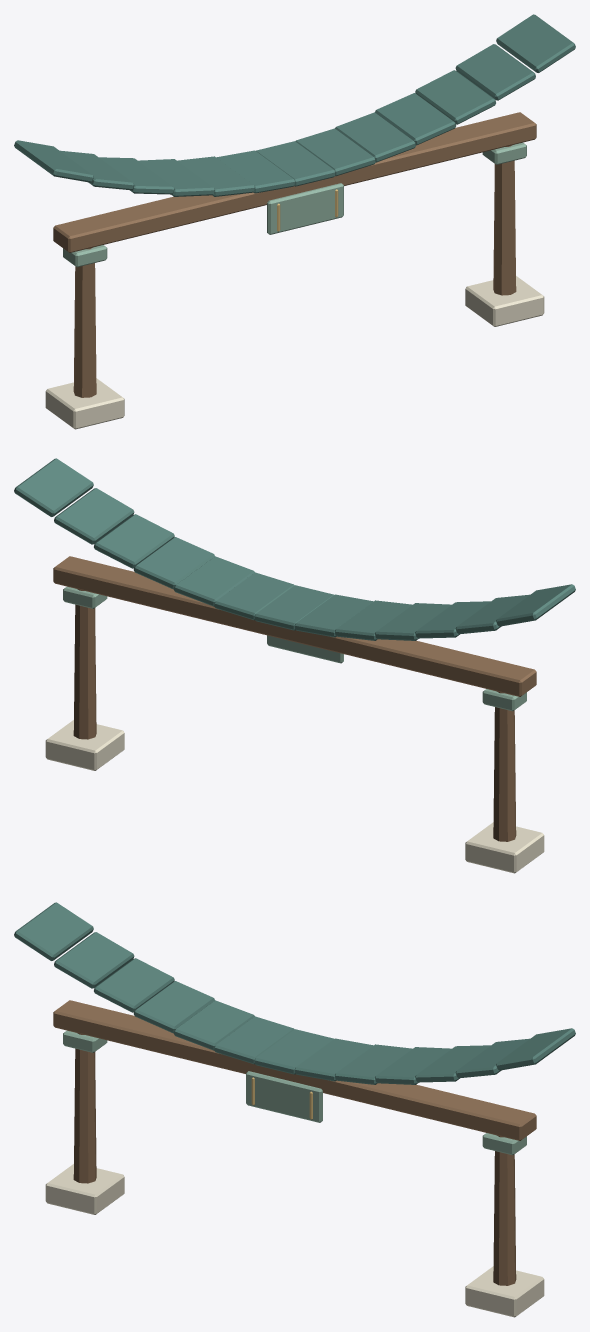
Rendered from hd2d-gate.glb.
3 views of the same model, one above another, from view 1: azimuth 30°, elevation 25°; view 2: azimuth 150°, elevation 25°; view 3: azimuth 330°, elevation 25° (orthographic).
Visible parts, largest first — view 1: GateLintel, CarvedTimber.001, CarvedTimber, CurvedJadeTiles.012, StonePlinth, StonePlinth.001, BronzeTablet, CurvedJadeTiles.011, CurvedJadeTiles.010, CurvedJadeTiles.009, CurvedJadeTiles.008, CurvedJadeTiles.007 (+9 smaller); view 2: GateLintel, CarvedTimber.001, CarvedTimber, CurvedJadeTiles.012, StonePlinth, StonePlinth.001, CurvedJadeTiles.011, CurvedJadeTiles.010, CurvedJadeTiles.009, CurvedJadeTiles.008, CurvedJadeTiles.007, CurvedJadeTiles.006 (+9 smaller); view 3: GateLintel, CarvedTimber, CarvedTimber.001, CurvedJadeTiles, StonePlinth.001, StonePlinth, BronzeTablet, CurvedJadeTiles.001, CurvedJadeTiles.002, CurvedJadeTiles.003, CurvedJadeTiles.004, CurvedJadeTiles.005 (+9 smaller).
Part boxes in pixels (x1,y1,x2,y2): GateLintel: (53, 112, 536, 252); CarvedTimber.001: (493, 145, 516, 295); CarvedTimber: (73, 247, 96, 397); CurvedJadeTiles.012: (496, 14, 575, 72); StonePlinth: (45, 378, 124, 429); StonePlinth.001: (465, 276, 544, 326); BronzeTablet: (267, 183, 343, 234); CurvedJadeTiles.011: (455, 44, 535, 100); CurvedJadeTiles.010: (415, 70, 495, 124); CurvedJadeTiles.009: (375, 93, 456, 145); CurvedJadeTiles.008: (335, 112, 415, 162); CurvedJadeTiles.007: (295, 128, 375, 176); GateLintel: (53, 556, 536, 696); CarvedTimber.001: (73, 589, 96, 739); CarvedTimber: (493, 691, 516, 841); CurvedJadeTiles.012: (14, 458, 93, 516); StonePlinth: (465, 822, 544, 873); StonePlinth.001: (45, 720, 124, 770); CurvedJadeTiles.011: (54, 488, 134, 544); CurvedJadeTiles.010: (94, 514, 174, 568); CurvedJadeTiles.009: (133, 537, 214, 589); CurvedJadeTiles.008: (174, 556, 254, 606); CurvedJadeTiles.007: (214, 572, 294, 620); CurvedJadeTiles.006: (254, 585, 333, 630); GateLintel: (53, 1000, 536, 1140); CarvedTimber: (73, 1033, 96, 1183); CarvedTimber.001: (493, 1135, 516, 1285); CurvedJadeTiles: (14, 902, 93, 960); StonePlinth.001: (465, 1266, 544, 1317); StonePlinth: (45, 1164, 124, 1214); BronzeTablet: (246, 1071, 322, 1122); CurvedJadeTiles.001: (54, 932, 134, 988); CurvedJadeTiles.002: (94, 958, 174, 1012); CurvedJadeTiles.003: (133, 981, 214, 1033); CurvedJadeTiles.004: (174, 1000, 254, 1050); CurvedJadeTiles.005: (214, 1016, 294, 1064).
Bounding box in the file's own units: 11.71 × 5.8 × 1.6.
